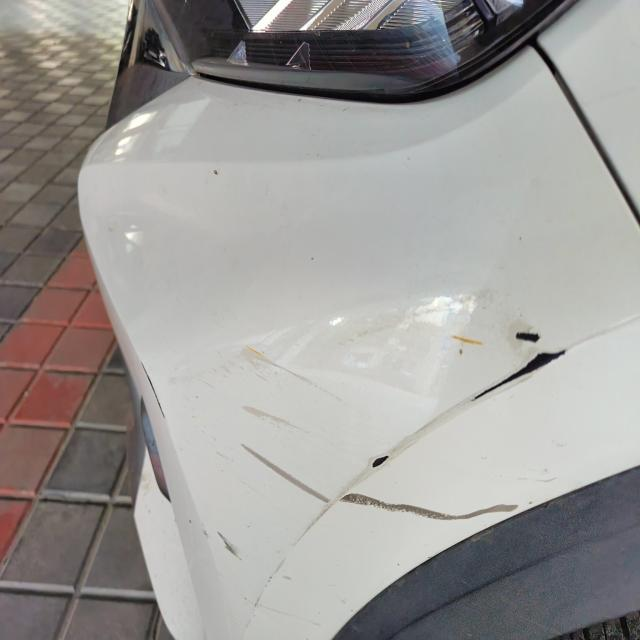scratch: (232, 336, 336, 506), (253, 507, 333, 610), (463, 328, 569, 405), (338, 484, 523, 527), (212, 521, 248, 565), (361, 449, 393, 478)
